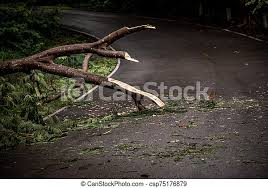obstacle: (3, 23, 169, 109)
